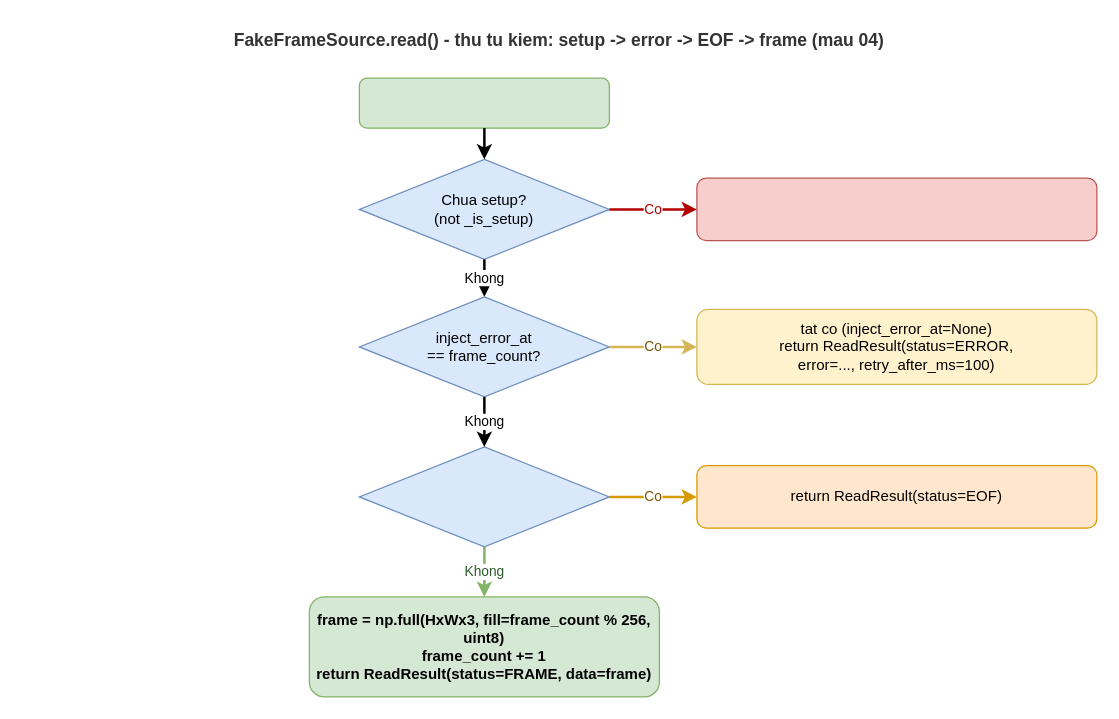
This 1119x719 diagram has some shape labels left out. Here are the shapes that lost their labels. From the top down, the centre of each, then its label:
(x=483, y=102): read() duoc goi
(x=896, y=209): raise RuntimeError ("setup() must be called before read()")
(x=483, y=496): frame_count >= max_frames?
